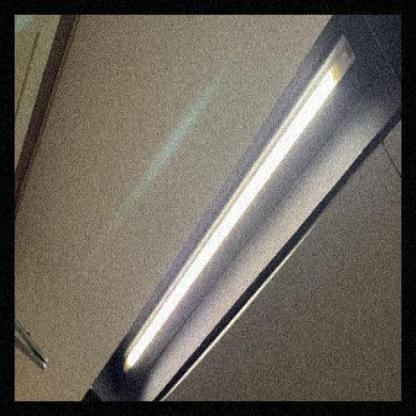light_on: (120, 29, 359, 379)
